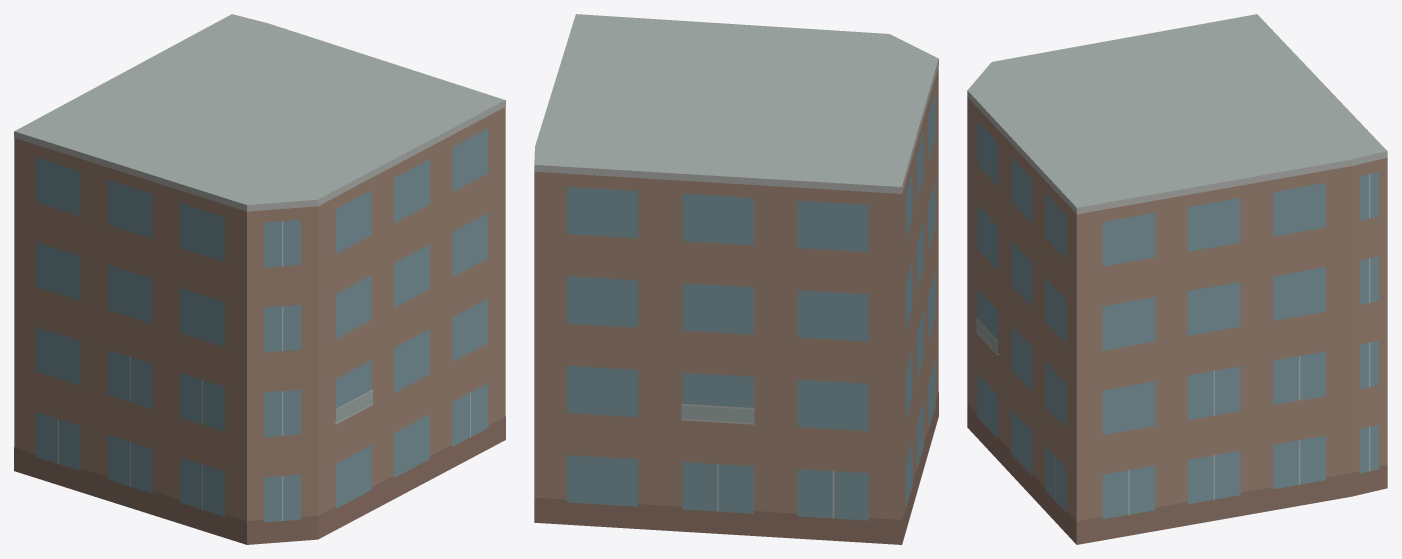
File: survey-upis-32732447.glb
The picture shows the model from 3 angles, left to right: view 1: azimuth 30°, elevation 25°; view 2: azimuth 150°, elevation 25°; view 3: azimuth 270°, elevation 25°; orthographic projection. The views are drawn at different scales.
Parts seen in each view (by area): view 1: survey-upis-32732447.tmp; view 2: survey-upis-32732447.tmp; view 3: survey-upis-32732447.tmp.
Part boxes in pixels (box(x1,y1,x2,y2)): survey-upis-32732447.tmp: box(14, 14, 505, 544); survey-upis-32732447.tmp: box(534, 14, 938, 544); survey-upis-32732447.tmp: box(967, 14, 1387, 544).
Size of the model in its own units: 15.68 by 12.7 by 14.36.
